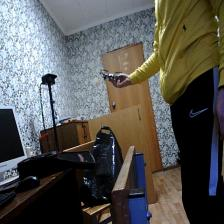drone: (97, 62, 128, 88)
